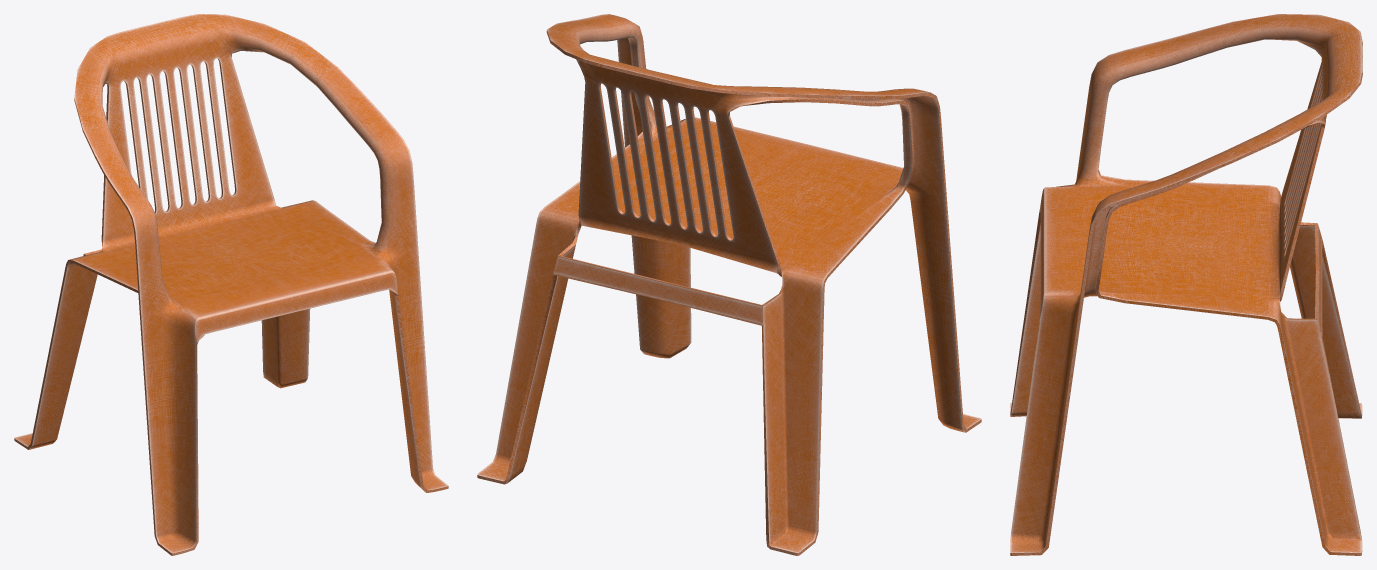
File: chair.glb
3 renders of one model, left to right at view 1: azimuth 30°, elevation 25°; view 2: azimuth 150°, elevation 25°; view 3: azimuth 270°, elevation 25°, orthographic. The views are drawn at different scales.
Visible parts, largest first — view 1: chair_l; view 2: chair_l; view 3: chair_l.
Boxes of the visible parts, bbox=[...] form: chair_l: bbox=[14, 14, 448, 555]; chair_l: bbox=[477, 14, 981, 555]; chair_l: bbox=[1010, 14, 1362, 555].
Size of the model in its own units: 0.8122 by 1.07 by 0.8054.
1 material, 1 textured.
